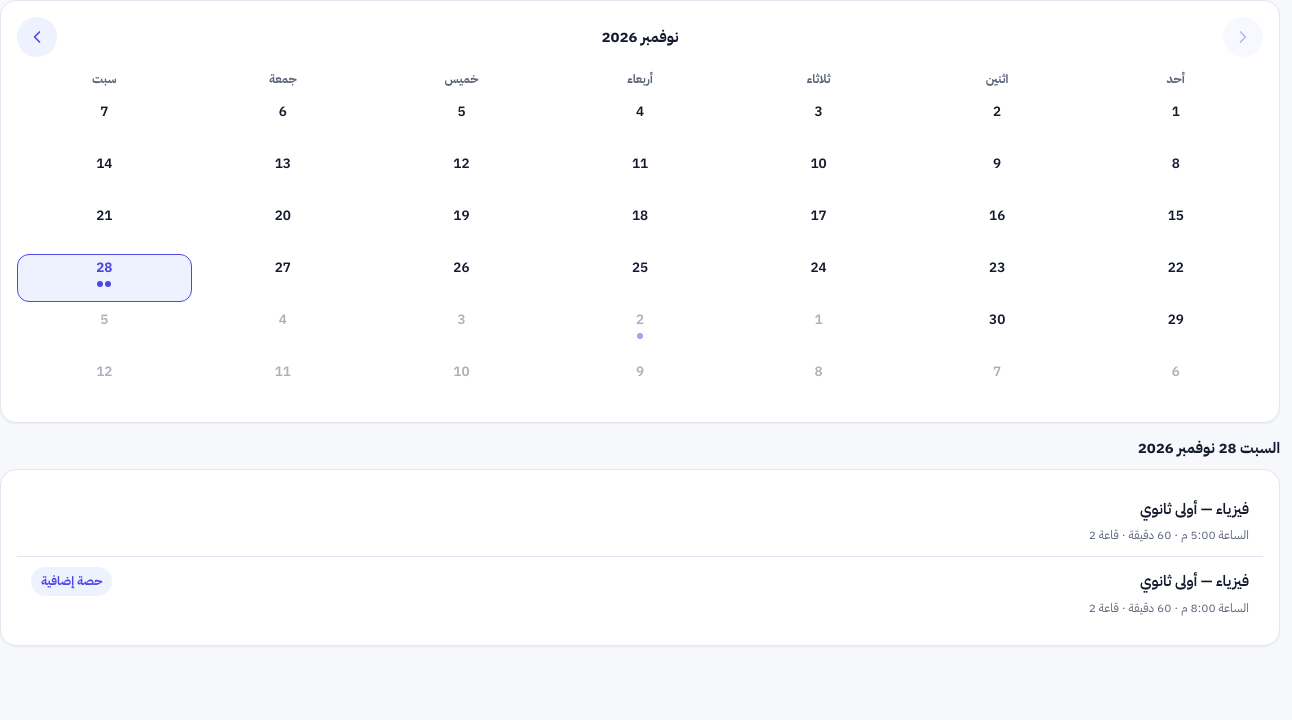
it: UpcomingSessionsCalendar — العرض والتفاعل › الضغط على يوم آخر يبدّل قائمة حصصه
Click the button "29" at (1176, 330), box [1088,306,1263,354]
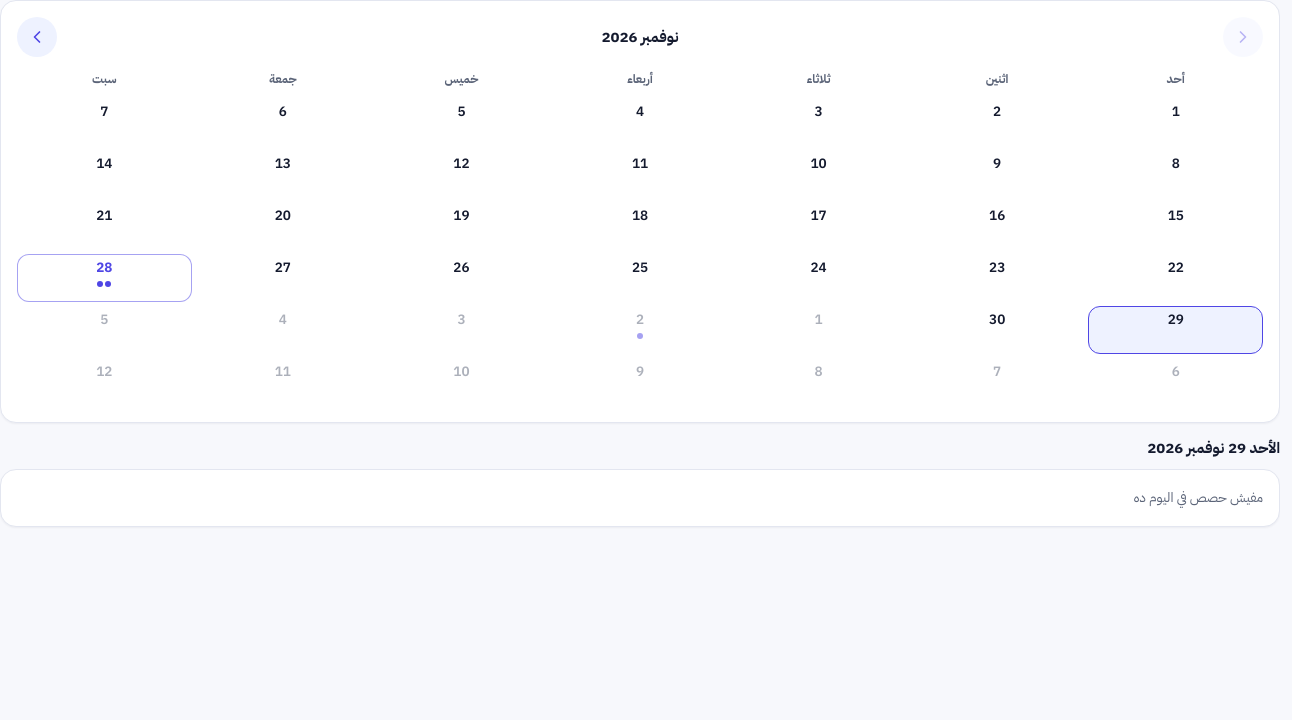
Now the text "مفيش حصص في اليوم ده" is shown, box [1134,487,1263,508]
